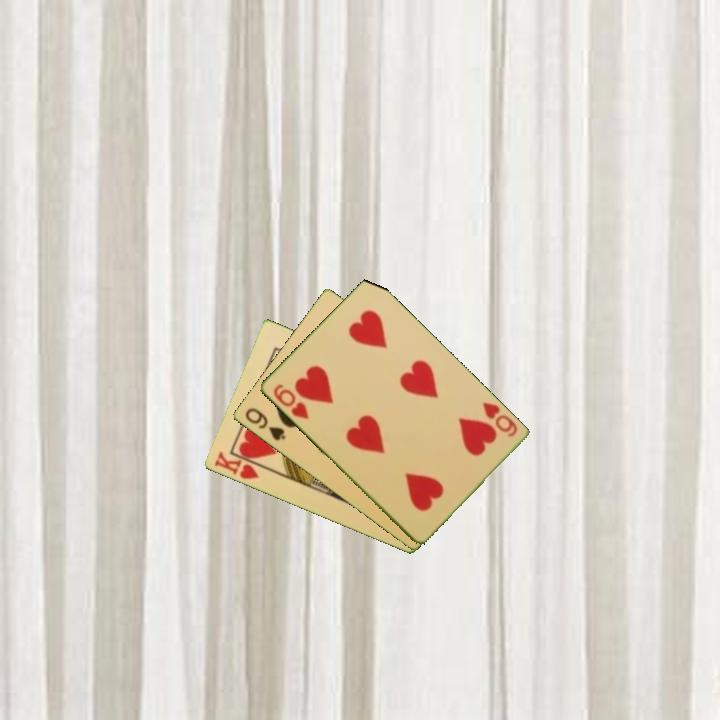6h: (269, 381, 311, 422), (478, 399, 520, 440)
9s: (241, 404, 288, 444)
Kh: (210, 448, 268, 482)
